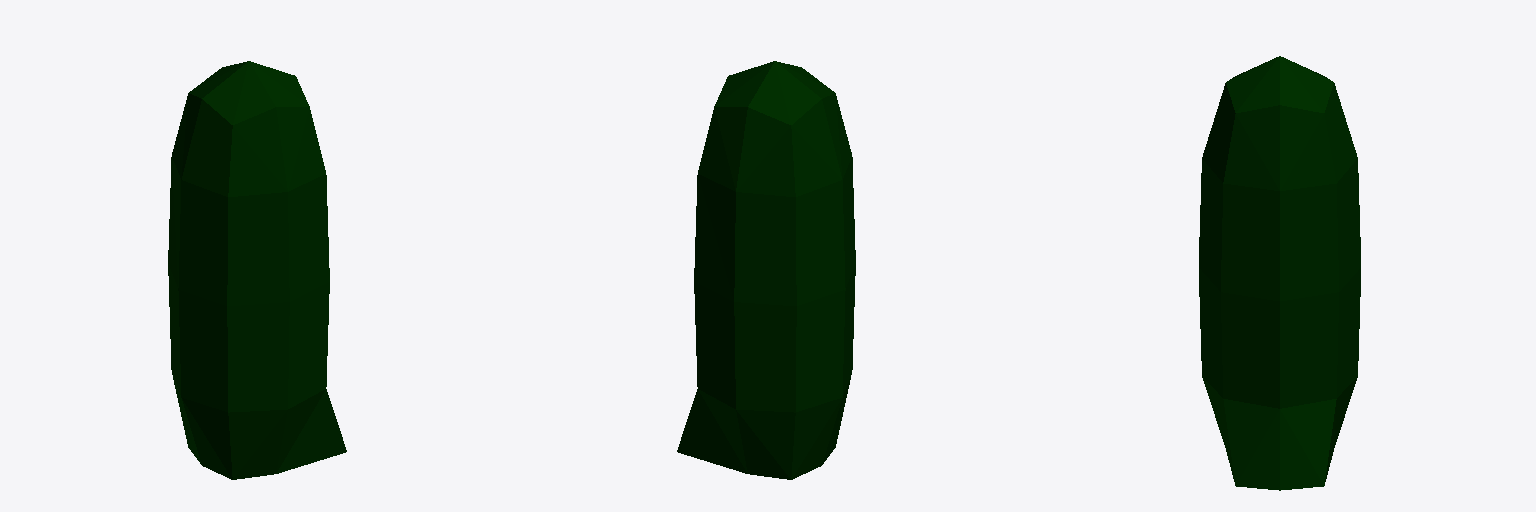
Rendered from gator_left_leg.obj.
3 renders of one model, left to right at view 1: azimuth 30°, elevation 25°; view 2: azimuth 150°, elevation 25°; view 3: azimuth 270°, elevation 25°, orthographic.
Parts seen in each view (by area): view 1: gator_left_leg; view 2: gator_left_leg; view 3: gator_left_leg.
Part boxes in pixels (bbox=[...]): gator_left_leg: bbox=[168, 61, 346, 479]; gator_left_leg: bbox=[677, 61, 855, 479]; gator_left_leg: bbox=[1199, 56, 1360, 490].
Size of the model in its own units: 0.1063 by 0.2576 by 0.0967.